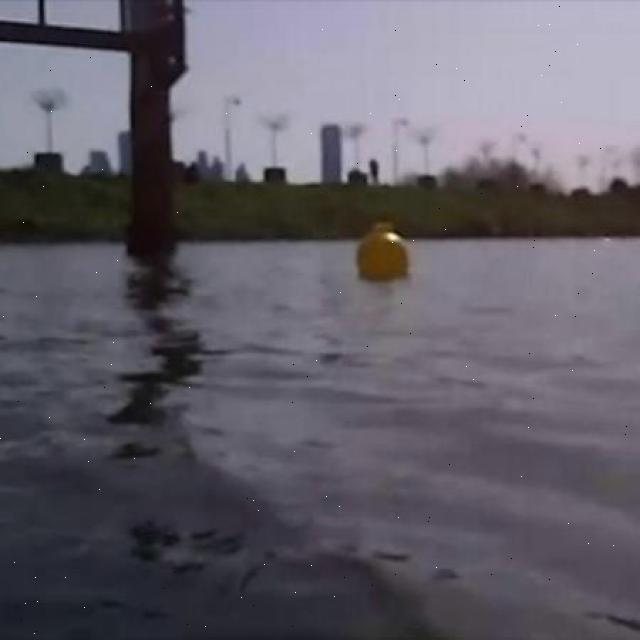buoy: (357, 221, 408, 280)
